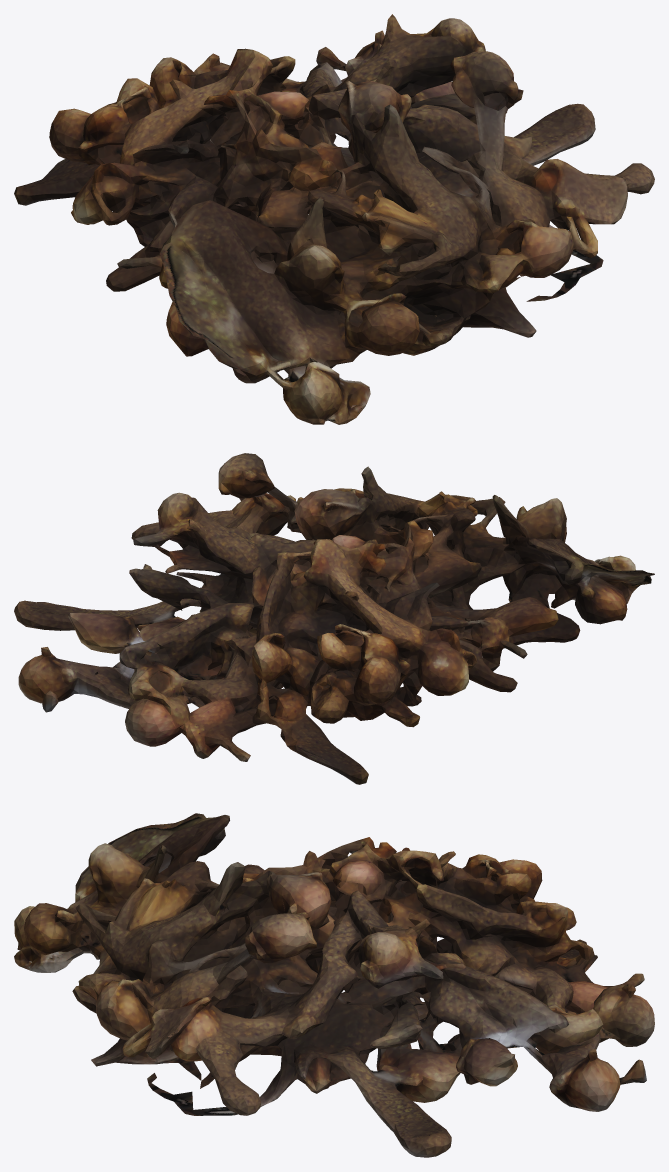
File: 009_FITRI_cengkeh.glb
3 views of the same model, one above another, from view 1: azimuth 30°, elevation 25°; view 2: azimuth 150°, elevation 25°; view 3: azimuth 270°, elevation 25° (orthographic). The views are drawn at different scales.
Visible parts, largest first — view 1: world; view 2: world; view 3: world.
Part boxes in pixels (box(x1,y1,x2,y2)): world: box(14, 14, 654, 424); world: box(14, 453, 654, 784); world: box(14, 813, 654, 1157).
Size of the model in its own units: 0.9572 by 0.3203 by 0.9998.
Materials: 1 (1 with a texture image).
